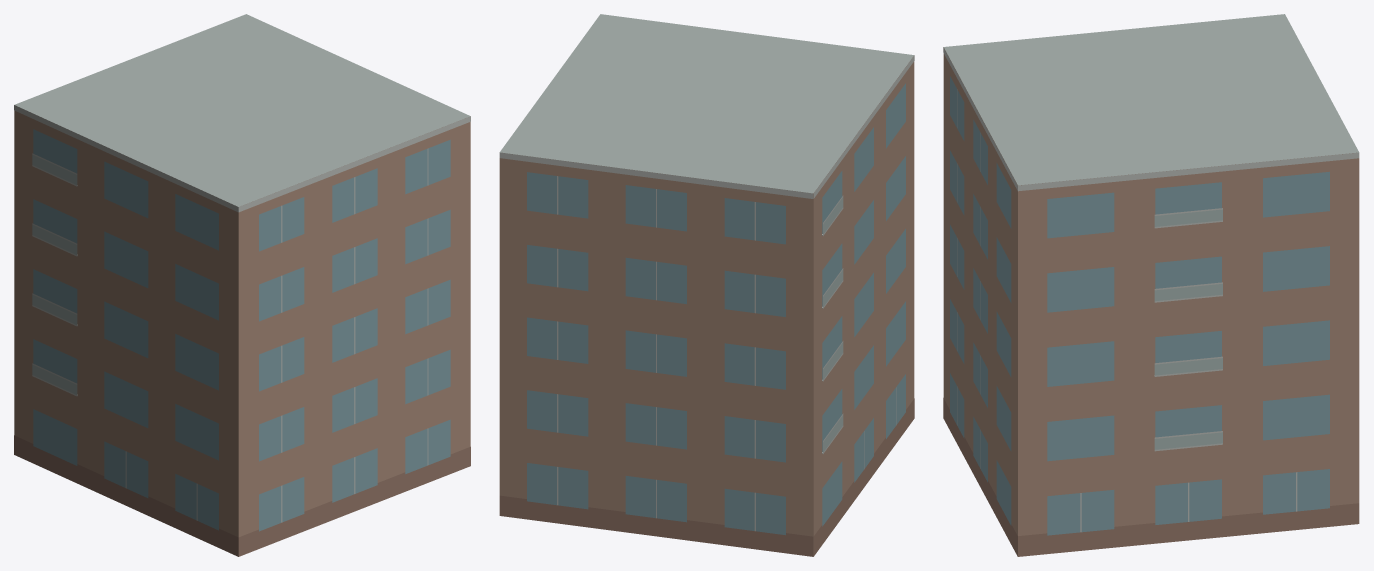
The model's file is survey-upis-32947727.glb.
3 views of the same model, side by side, from view 1: azimuth 30°, elevation 25°; view 2: azimuth 150°, elevation 25°; view 3: azimuth 270°, elevation 25° (orthographic). The views are drawn at different scales.
Parts seen in each view (by area): view 1: survey-upis-32947727.tmp; view 2: survey-upis-32947727.tmp; view 3: survey-upis-32947727.tmp.
Part boxes in pixels (x1,y1,x2,y2): survey-upis-32947727.tmp: [14, 14, 470, 556]; survey-upis-32947727.tmp: [499, 14, 914, 556]; survey-upis-32947727.tmp: [943, 14, 1359, 556].
Size of the model in its own units: 15.45 by 15.6 by 15.84.
